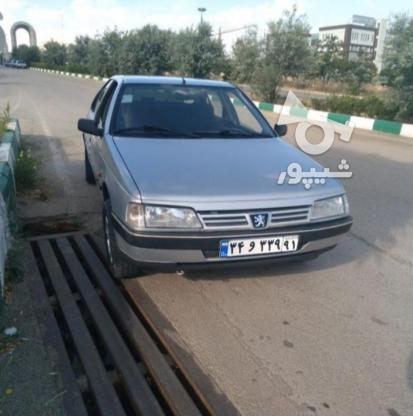car: (220, 234, 299, 259)
